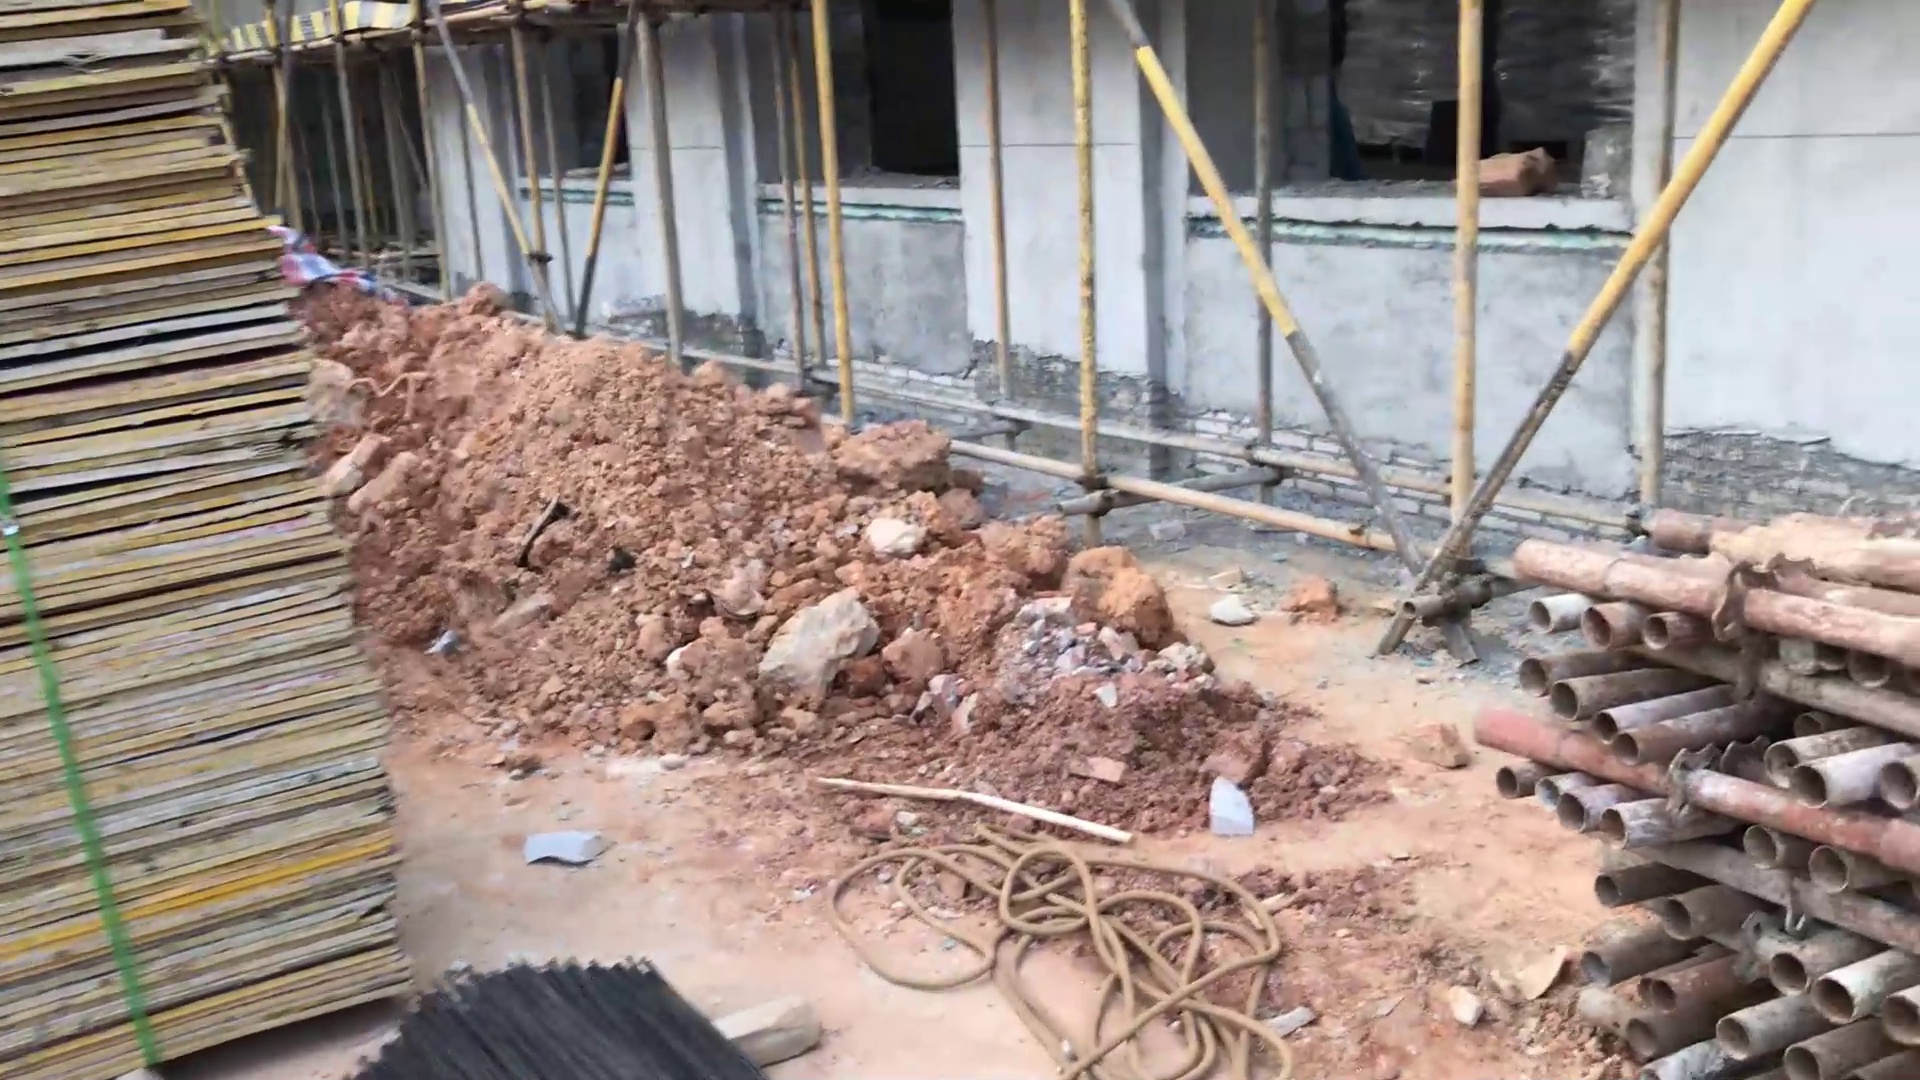board: (1, 3, 422, 1076)
scaffold: (1501, 497, 1913, 1080)
